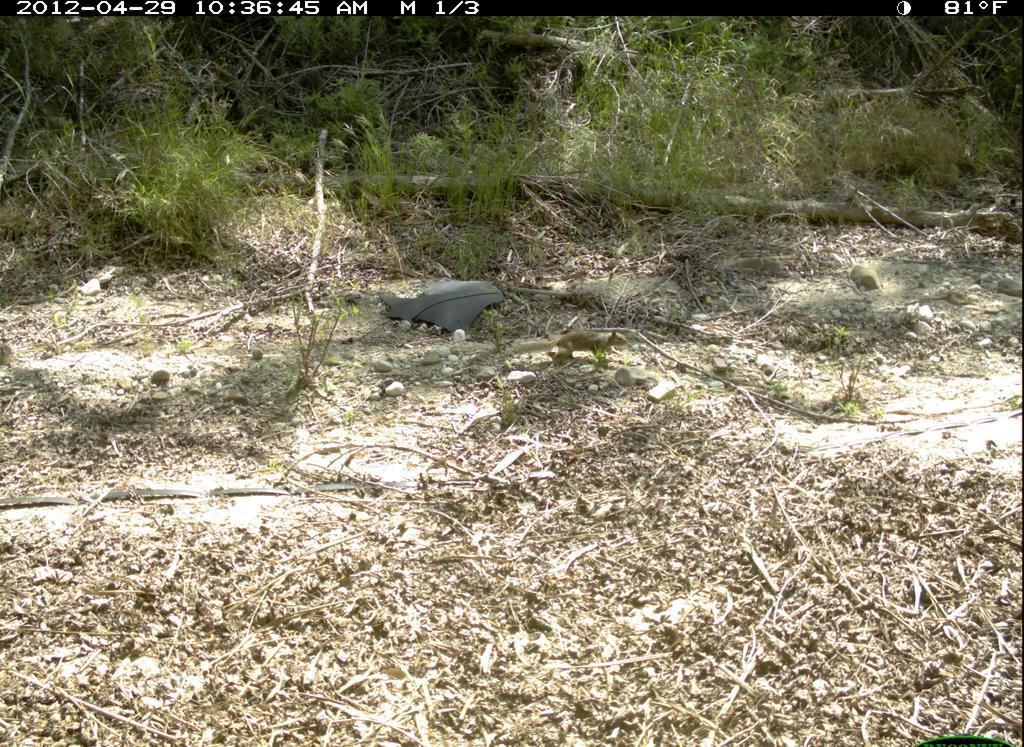squirrel: (493, 323, 635, 368)
